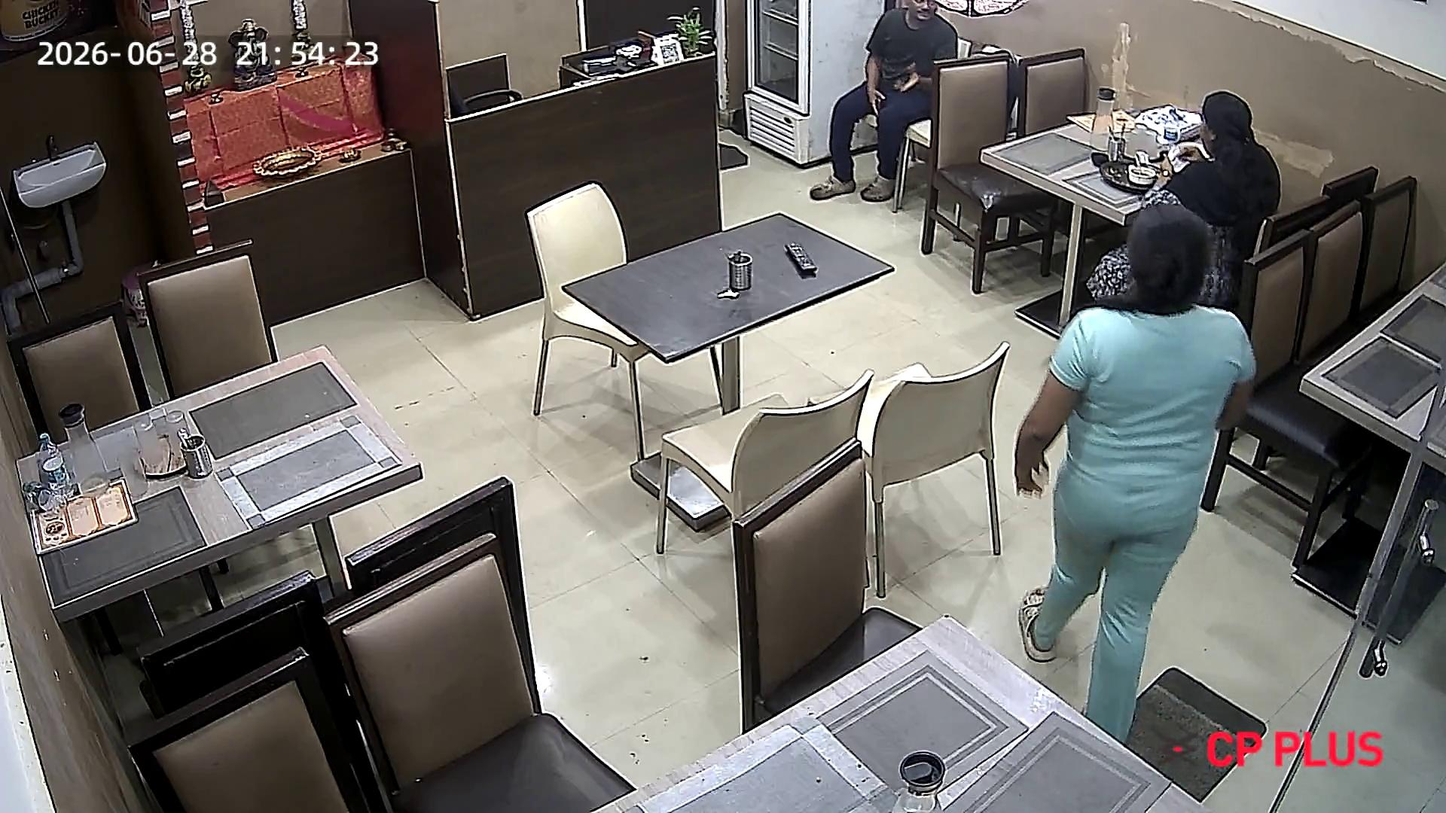clean: (561, 212, 898, 361)
dirty: (16, 336, 427, 611)
occupied: (980, 79, 1313, 239)
